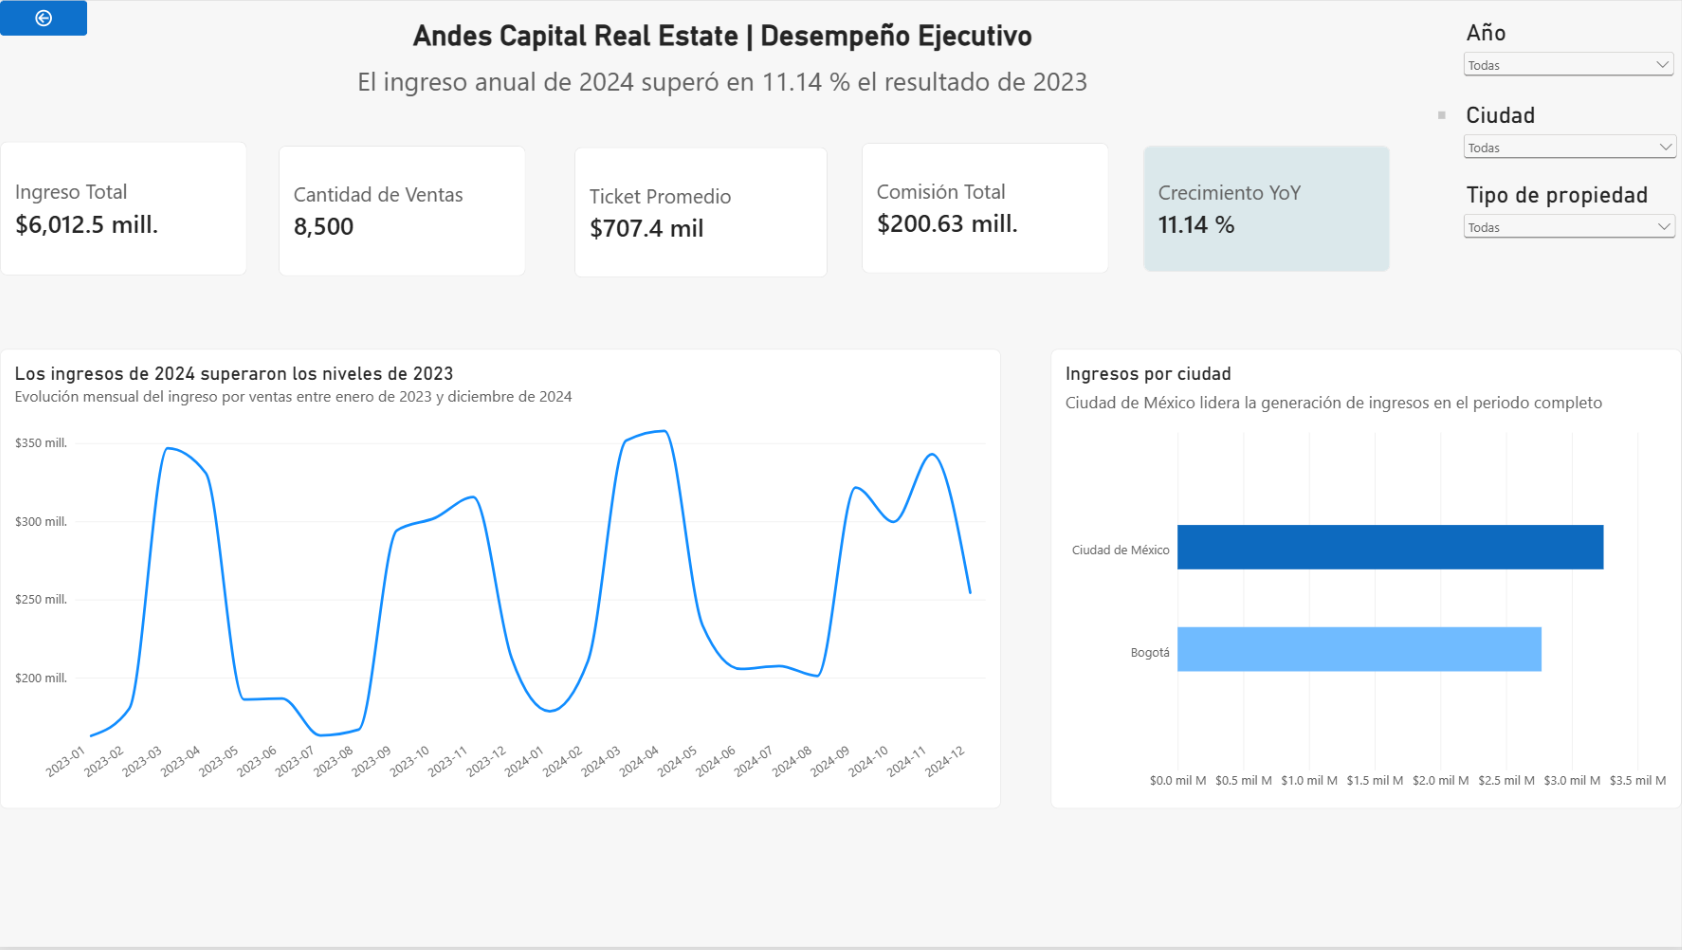

What the dashboard file says about the page in this screenshot:
{"tool":"powerbi","page":{"name":"Overview","canvas":[1920,1080],"ordinal":0},"visuals":[{"type":"textbox","title":"Andes Capital Real Estate | Desempeño Ejecutivo","box":[0,20.8,1650.3,113.7],"z":0},{"type":"actionButton","box":[0,0,100,40],"z":1001},{"type":"slicer","fields":{"Values":["dim_propiedades.ciudad"]},"box":[1665.5,115.6,253.9,90.9],"z":1002},{"type":"slicer","fields":{"Values":["dim_propiedades.tipo_propiedad"]},"box":[1665.5,206.5,252,81.5],"z":1003},{"type":"slicer","fields":{"Values":["dim_fecha.Año"]},"box":[1665.5,20.8,250.1,94.7],"z":1004},{"type":"cardVisual","fields":{"Data":["hecho_ventas_propiedades.Ingreso Total"]},"box":[0,161.1,282.3,153.5],"z":1005},{"type":"cardVisual","fields":{"Data":["hecho_ventas_propiedades.Cantidad de Ventas"]},"box":[318.3,164.8,282.3,149.7],"z":1006},{"type":"cardVisual","fields":{"Data":["hecho_ventas_propiedades.Ticket Promedio"]},"box":[655.6,166.7,289.9,149.7],"z":1007},{"type":"cardVisual","fields":{"Data":["hecho_ventas_propiedades.Comisión Total"]},"box":[983.4,162.9,282.3,149.7],"z":1008},{"type":"lineChart","title":"Los ingresos de 2024 superaron los niveles de 2023","fields":{"Category":["dim_fecha.Año-Mes"],"Y":["hecho_ventas_propiedades.Ingreso Total"]},"box":[0,397.9,1142.5,524.8],"z":1009},{"type":"barChart","title":"Ingresos por ciudad","fields":{"Category":["dim_propiedades.ciudad"],"Y":["hecho_ventas_propiedades.Ingreso Total"]},"box":[1199.4,397.9,720,524.8],"z":1010},{"type":"cardVisual","fields":{"Data":["hecho_ventas_propiedades.Crecimiento YoY"]},"box":[1305.5,164.8,282.3,144],"z":1011}]}

Visuals, with their boxes in screenshot pixels (x1, y1, x2, y2), scaled from the page's 1920x1080 canvas onto the 1682x950 screenshot:
"Andes Capital Real Estate | Desempeño Ejecutivo" textbox: left=0, top=18, right=1446, bottom=118
actionButton: left=0, top=0, right=88, bottom=35
slicer - dim_propiedades.ciudad: left=1459, top=102, right=1681, bottom=182
slicer - dim_propiedades.tipo_propiedad: left=1459, top=182, right=1680, bottom=253
slicer - dim_fecha.Año: left=1459, top=18, right=1678, bottom=102
cardVisual - hecho_ventas_propiedades.Ingreso Total: left=0, top=142, right=247, bottom=277
cardVisual - hecho_ventas_propiedades.Cantidad de Ventas: left=279, top=145, right=526, bottom=277
cardVisual - hecho_ventas_propiedades.Ticket Promedio: left=574, top=147, right=828, bottom=278
cardVisual - hecho_ventas_propiedades.Comisión Total: left=861, top=143, right=1109, bottom=275
"Los ingresos de 2024 superaron los niveles de 2023" lineChart: left=0, top=350, right=1001, bottom=812
"Ingresos por ciudad" barChart: left=1051, top=350, right=1681, bottom=812
cardVisual - hecho_ventas_propiedades.Crecimiento YoY: left=1144, top=145, right=1391, bottom=272
